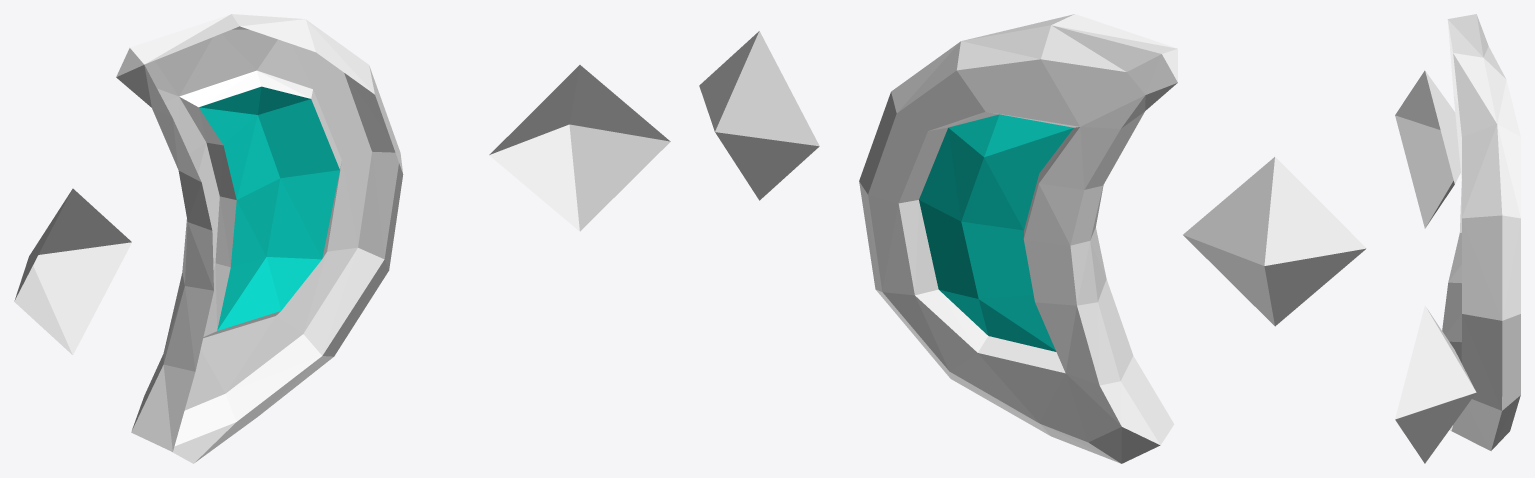
File: CharSkyKid_Mask_AP21Crescent.glb
The picture shows the model from 3 angles, left to right: view 1: azimuth 30°, elevation 25°; view 2: azimuth 150°, elevation 25°; view 3: azimuth 270°, elevation 25°; orthographic projection. The views are drawn at different scales.
Parts seen in each view (by area): view 1: CharSkyKid_Mask_AP21Crescent; view 2: CharSkyKid_Mask_AP21Crescent; view 3: CharSkyKid_Mask_AP21Crescent.
Part boxes in pixels (<box>): CharSkyKid_Mask_AP21Crescent: <box>14,14,670,463</box>; CharSkyKid_Mask_AP21Crescent: <box>699,14,1366,463</box>; CharSkyKid_Mask_AP21Crescent: <box>1395,14,1520,463</box>.
Bounding box in the file's own units: 0.811 × 0.4938 × 0.1419.
Materials: 1 (1 with a texture image).
